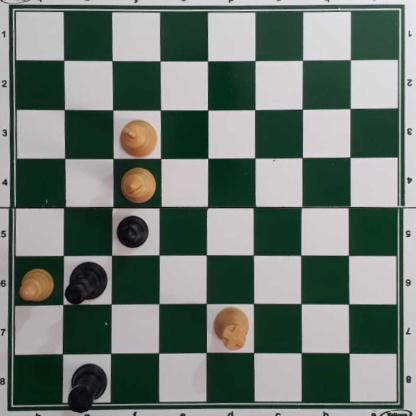black-king: (65, 263, 110, 306)
black-pawn: (117, 216, 149, 251)
black-rook: (65, 364, 109, 414)
white-bishop: (121, 168, 156, 205)
white-king: (119, 119, 160, 160)
white-pawn: (18, 269, 55, 304)
white-rook: (214, 307, 250, 350)
